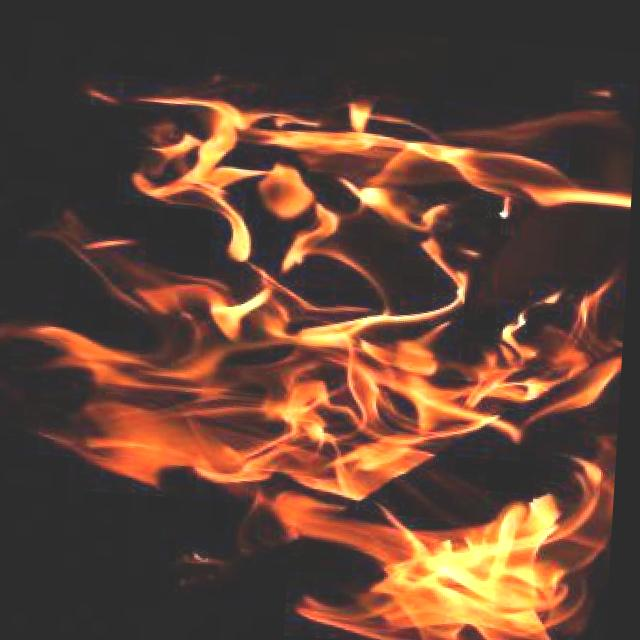Fire: (2, 26, 639, 640)
